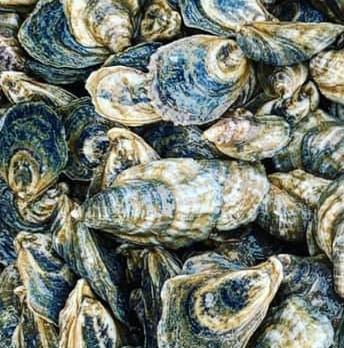3: (157, 257, 283, 348), (85, 66, 163, 127), (174, 0, 278, 38), (317, 182, 344, 263), (103, 41, 163, 74), (333, 213, 344, 298)
Oyster-Closed: (74, 158, 223, 250), (49, 196, 143, 335), (145, 34, 249, 127), (0, 102, 68, 201), (55, 96, 127, 181), (255, 169, 332, 243), (195, 159, 270, 229), (59, 0, 141, 54), (59, 277, 121, 348), (202, 114, 291, 160), (0, 0, 40, 11)
Oyster-Open: (270, 253, 344, 348), (17, 0, 109, 68), (14, 231, 78, 327), (88, 127, 166, 197), (237, 296, 334, 348), (236, 21, 344, 67), (273, 108, 340, 173), (141, 246, 183, 348), (0, 176, 68, 233), (133, 121, 228, 160), (255, 80, 320, 129), (0, 72, 79, 111), (302, 122, 344, 180), (309, 48, 344, 105), (0, 8, 29, 73), (257, 62, 309, 98), (0, 260, 24, 310), (0, 221, 19, 265)
